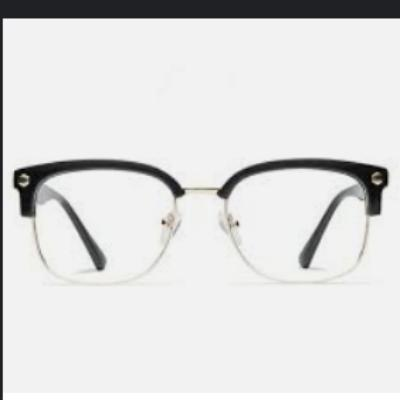glasses: (8, 156, 391, 286)
